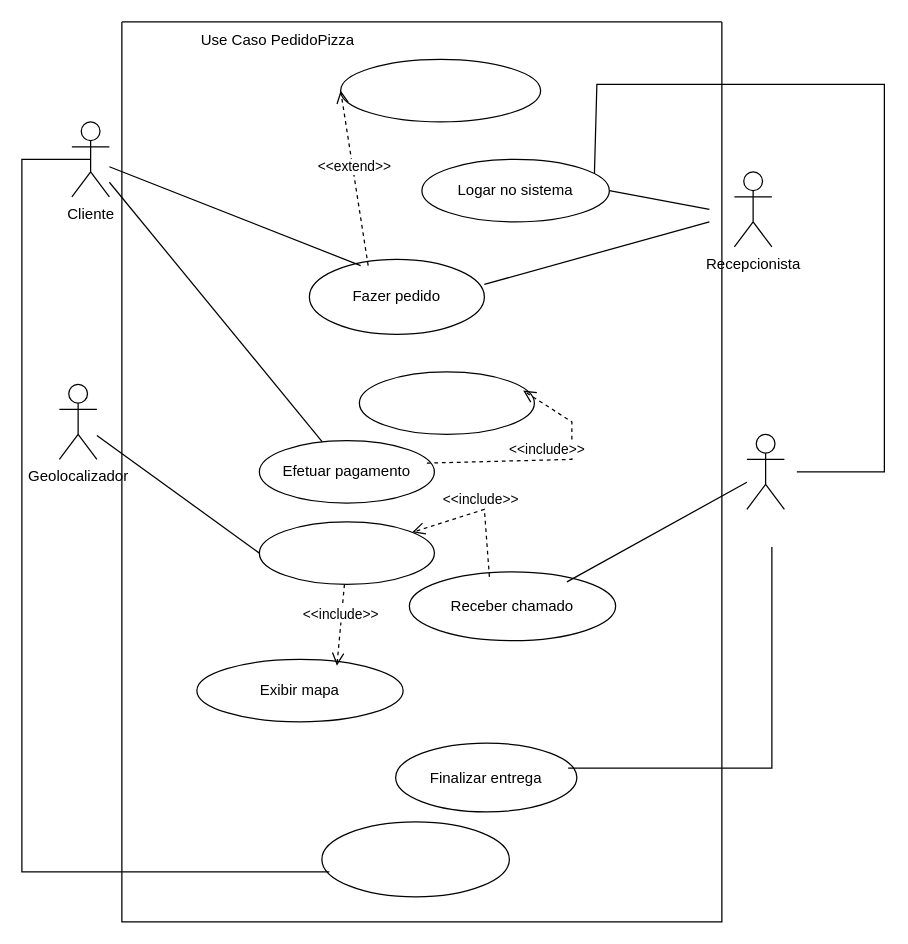
Some shapes in this 908 by 944 pixel diagram are drawn without their labels. Here are the shapes that lost their labels. From the top down, the centre of each, then its label:
[440,90]: Fazer cadastro
[446,402]: Validar pedido
[765,471]: Entregador
[346,552]: Ativar localização
[415,859]: Avaliar serviço
